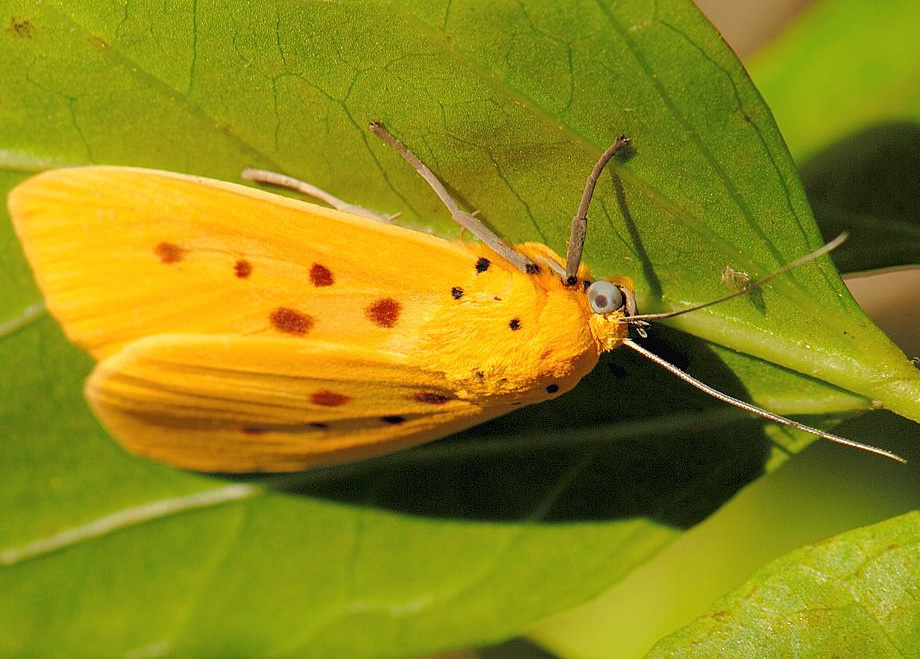Agape chloropyga: (8, 123, 914, 487)
moth: (6, 121, 914, 484)
